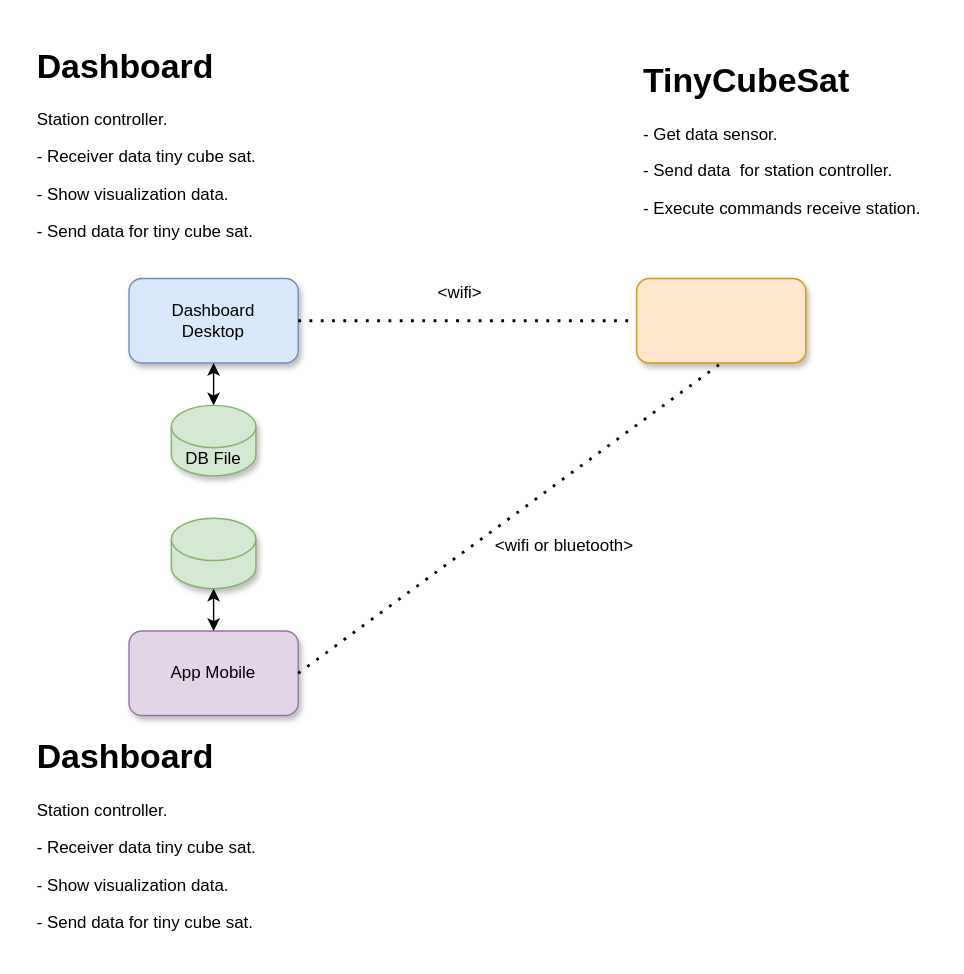
The diagram is 964 pixels wide and 974 high, and some of its shapes have lost their labels. The shapes that lost their labels are listed below. From the top down, each one's centre as x and y in pixels, then its label:
At pixel 722 322: "TinyCubeSat".
At pixel 214 555: "DB SQLite".
